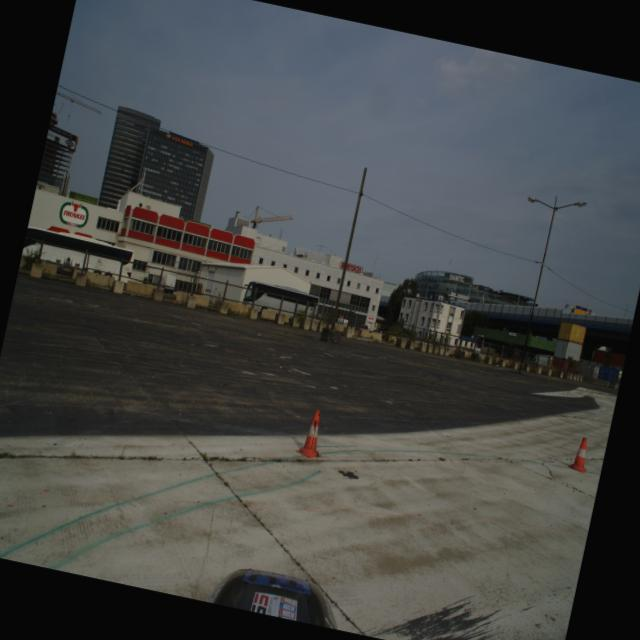orange_cone: (294, 407, 330, 460), (566, 435, 592, 473)
